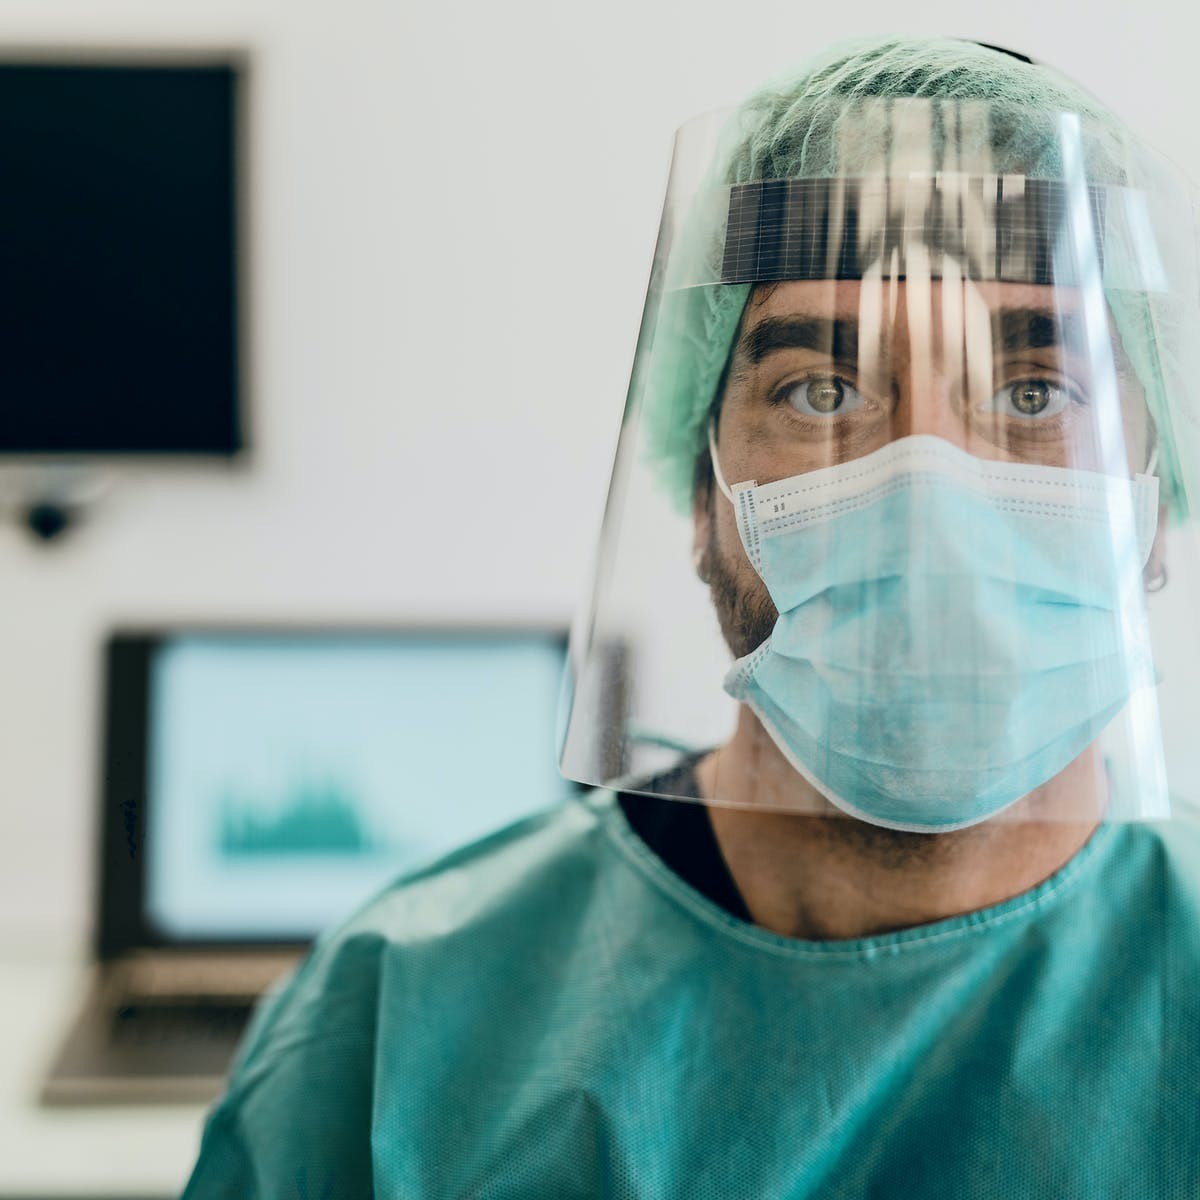Face_Shield: (560, 76, 1200, 842)
with_mask: (731, 307, 1153, 833)
